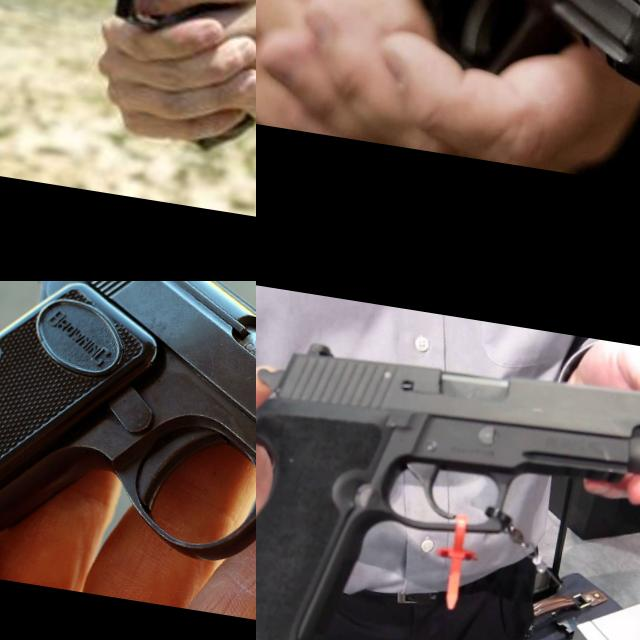handgun: (256, 319, 640, 640), (0, 281, 256, 616), (369, 0, 640, 167), (0, 0, 256, 113)
